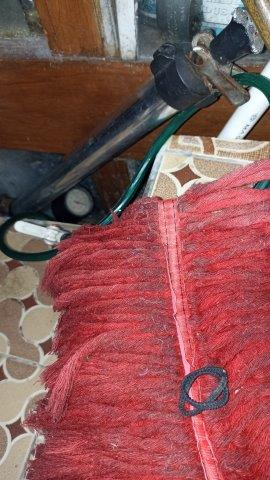karet: (178, 366, 229, 416)
